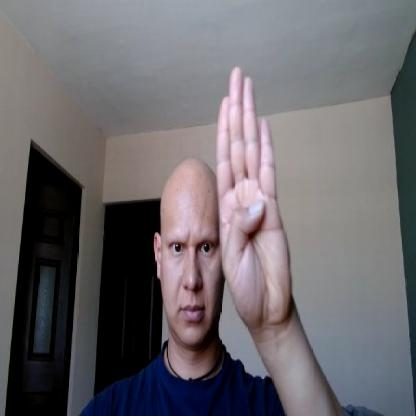B: (217, 65, 291, 320)
